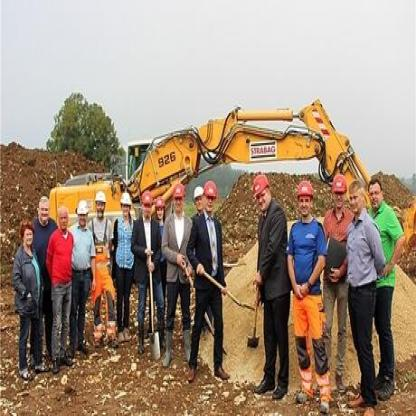person: (286, 170, 331, 414), (366, 169, 409, 408), (249, 165, 289, 400), (344, 167, 378, 413), (194, 169, 232, 381), (321, 157, 348, 410), (163, 173, 195, 374), (11, 217, 44, 374), (135, 192, 161, 354), (90, 185, 115, 347), (49, 199, 70, 368), (70, 184, 90, 360), (116, 186, 136, 340), (34, 190, 51, 253)
